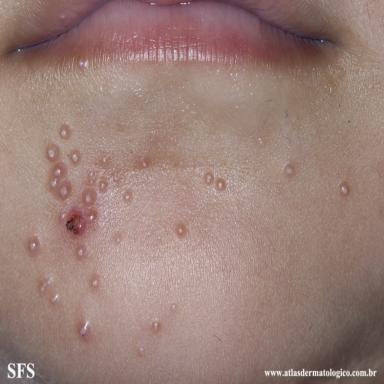Molluscum-Contagiosum: (49, 162, 72, 200), (25, 235, 41, 256), (83, 188, 97, 206), (39, 276, 54, 292), (79, 320, 91, 338), (47, 144, 59, 161), (215, 177, 227, 192), (283, 163, 295, 178), (59, 124, 71, 139), (69, 149, 80, 165), (175, 223, 187, 237), (76, 245, 87, 259), (78, 57, 89, 70), (339, 182, 349, 196), (123, 190, 133, 203), (50, 292, 60, 305), (88, 209, 97, 223), (113, 232, 123, 244), (88, 171, 96, 186), (139, 156, 149, 168), (204, 172, 213, 185), (99, 180, 108, 192), (152, 321, 161, 332), (101, 155, 109, 166), (91, 277, 99, 287), (138, 346, 145, 357), (171, 303, 177, 311)
